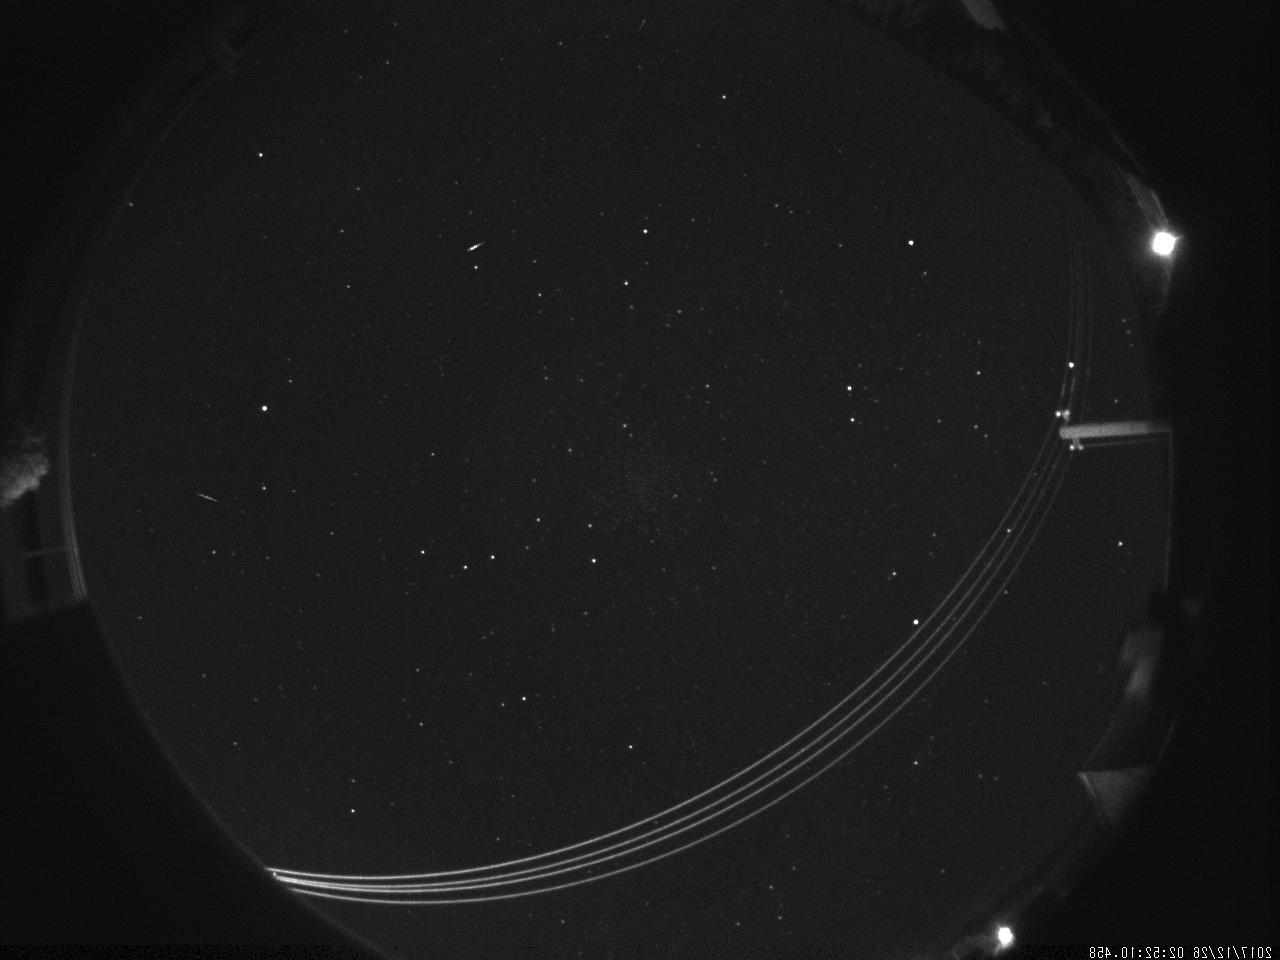meteor: (448, 233, 495, 264), (184, 486, 223, 510)
